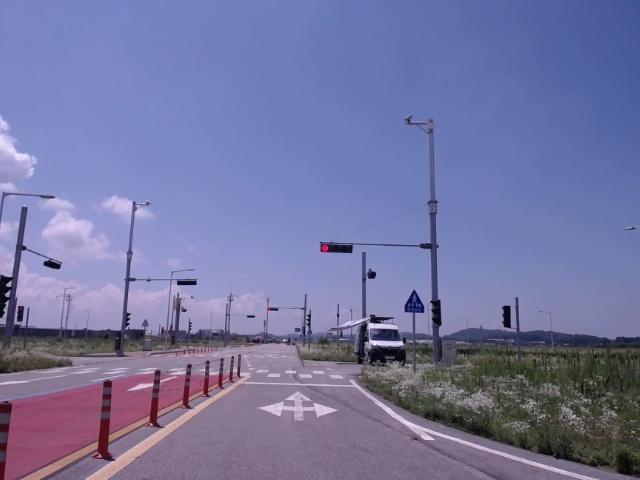red_4: (319, 241, 354, 254)
